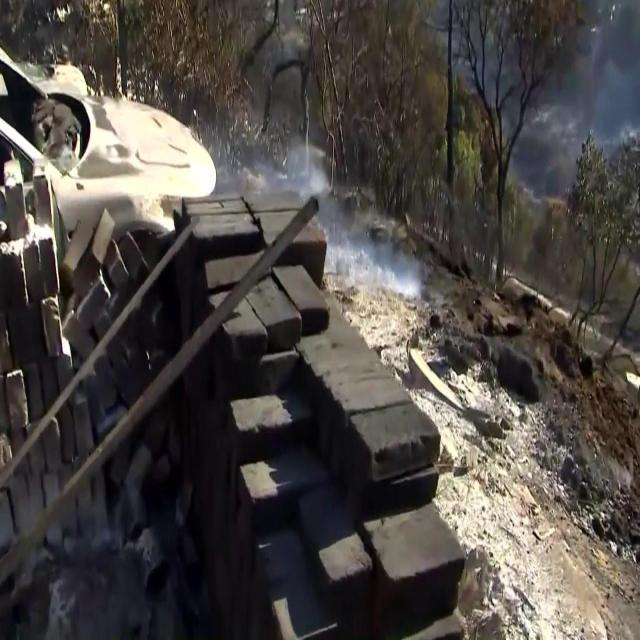Smoke: (186, 119, 370, 222), (322, 214, 428, 300)
